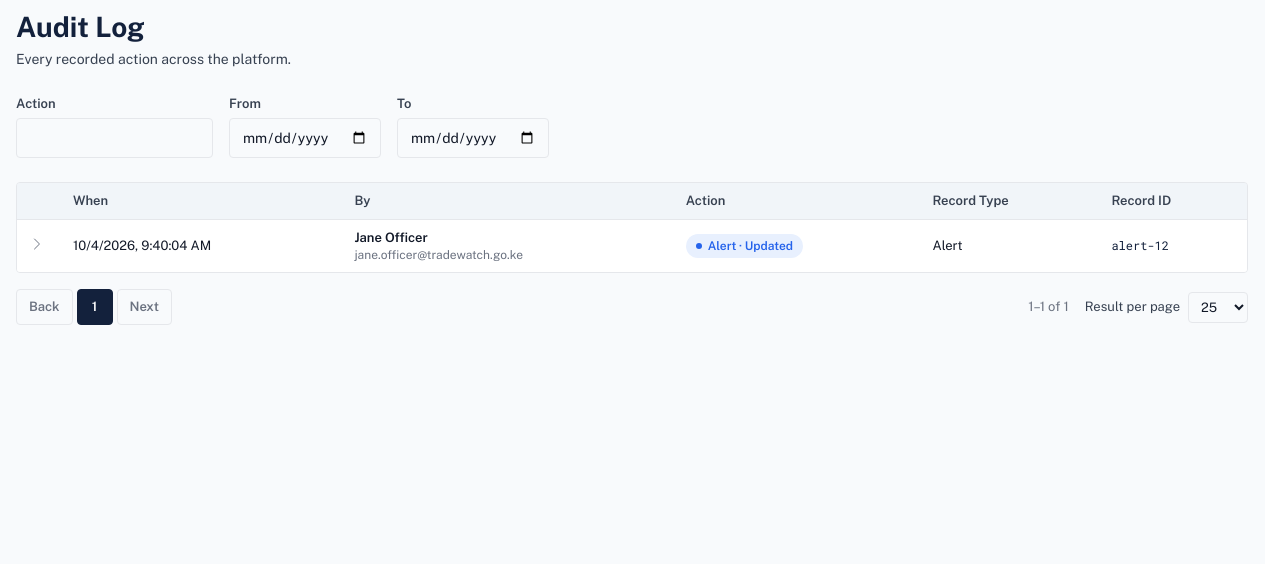
AuditLogPage › shows the full before/after record, highlighting only the field that changed, when the row is expanded
The width and height of the screenshot is (1265, 564).
Expected: the text "Jane Officer" is shown, [354,230,428,245]
Expected: the text "Agriculture" is not shown
Click the button named "Show what changed" at (37, 244), box [27,234,47,254]
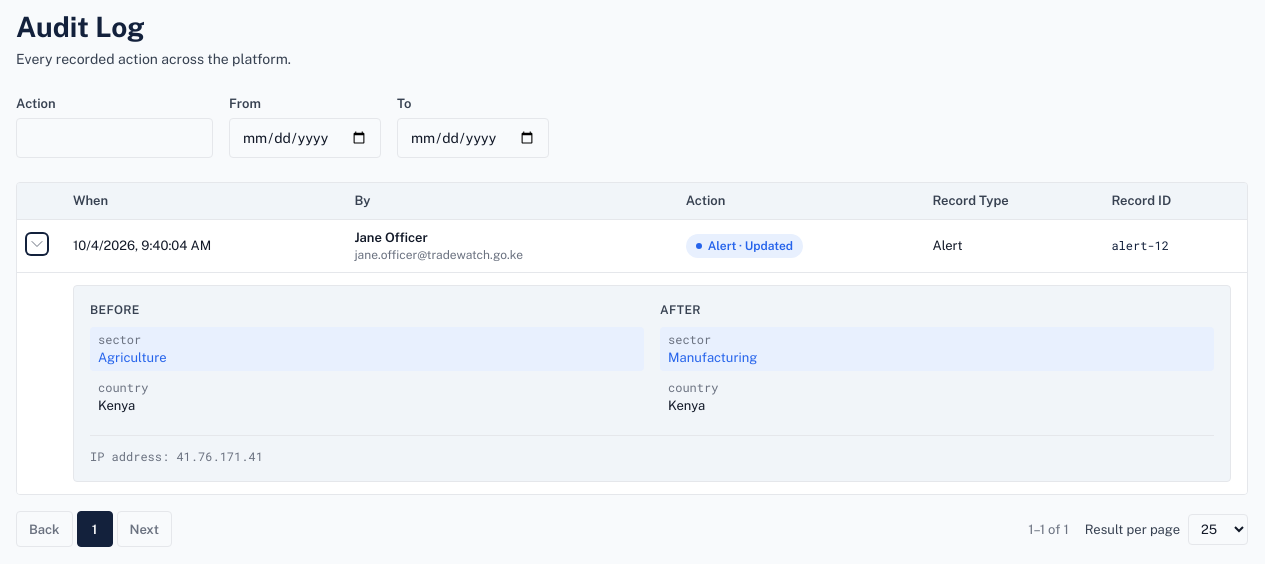
Now the text "Agriculture" is shown, box [98,350,166,365]
Now the text "Manufacturing" is shown, box [668,350,758,365]
Now the text "Kenya" is shown 2 times, box [98,398,135,413]; [668,398,705,413]
Click the button named "Hide what changed" at (37, 244), box [27,234,47,254]
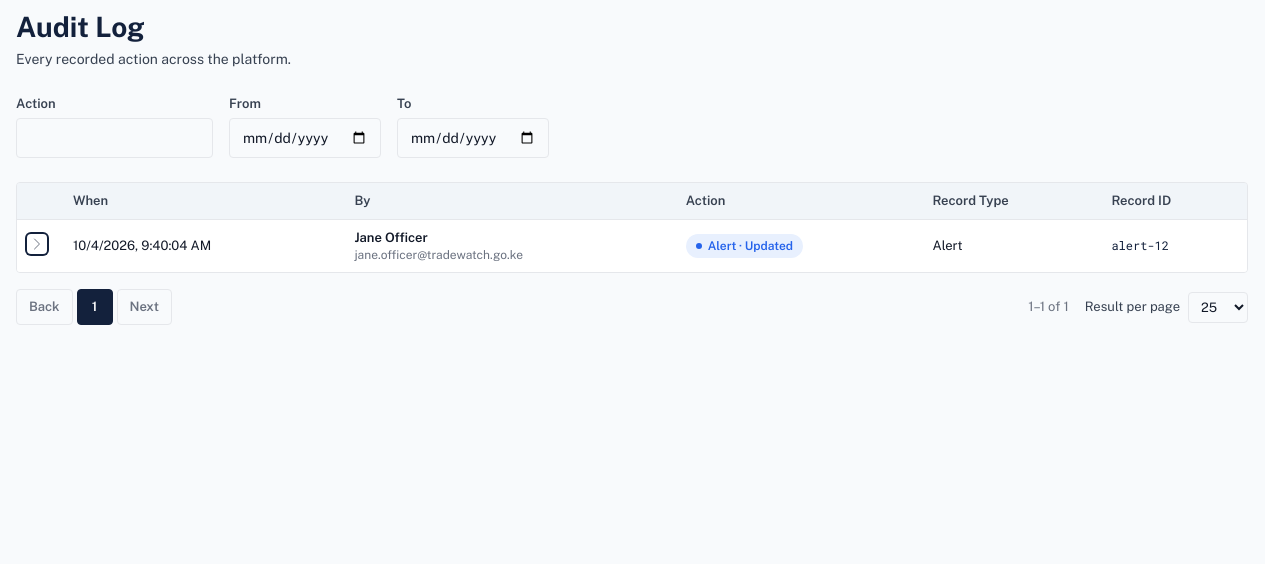
Now the text "Agriculture" is gone
